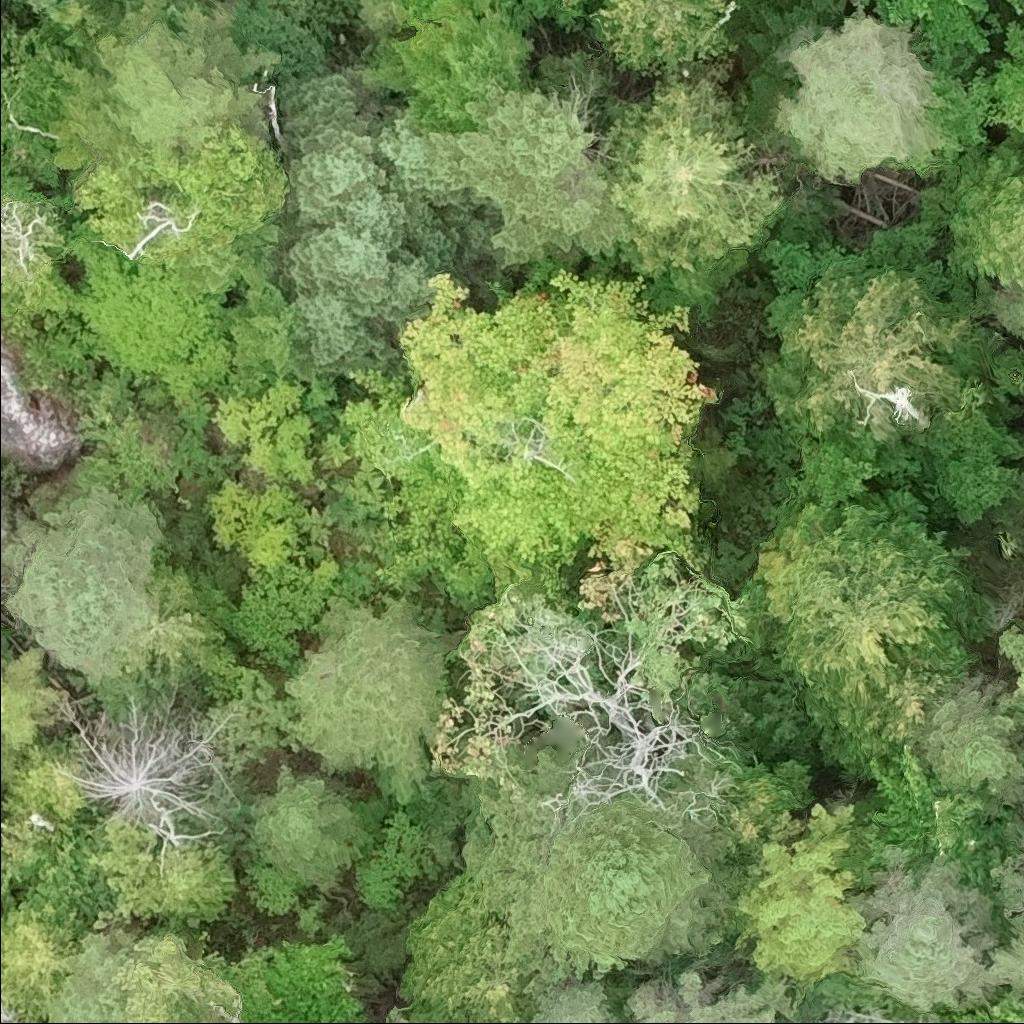crown: (348, 267, 723, 602), (753, 495, 978, 771), (761, 257, 998, 438), (46, 0, 285, 178), (597, 58, 785, 278), (509, 799, 734, 982), (486, 642, 702, 831), (417, 81, 628, 269), (283, 592, 446, 806), (0, 483, 165, 687), (770, 3, 952, 184), (73, 122, 289, 266), (845, 842, 1002, 1014), (396, 873, 571, 1023), (726, 799, 863, 989), (58, 683, 241, 825), (376, 0, 530, 133), (277, 70, 390, 235), (915, 126, 1023, 291), (248, 764, 373, 891), (912, 664, 1023, 804), (122, 560, 228, 687), (0, 151, 70, 339), (283, 220, 393, 336), (588, 0, 742, 77), (292, 279, 407, 374), (0, 894, 85, 1021), (114, 937, 239, 1023), (47, 917, 148, 1023), (615, 968, 808, 1023), (224, 281, 325, 385), (0, 13, 60, 187), (381, 106, 478, 211), (863, 0, 992, 78), (166, 221, 282, 302), (0, 650, 72, 778), (861, 654, 957, 745), (987, 849, 1023, 1000), (524, 974, 630, 1023), (341, 180, 411, 249), (383, 248, 445, 324), (993, 609, 1023, 739), (379, 1008, 414, 1023), (12, 0, 57, 9), (0, 634, 10, 656), (564, 0, 589, 8), (853, 0, 865, 6)
